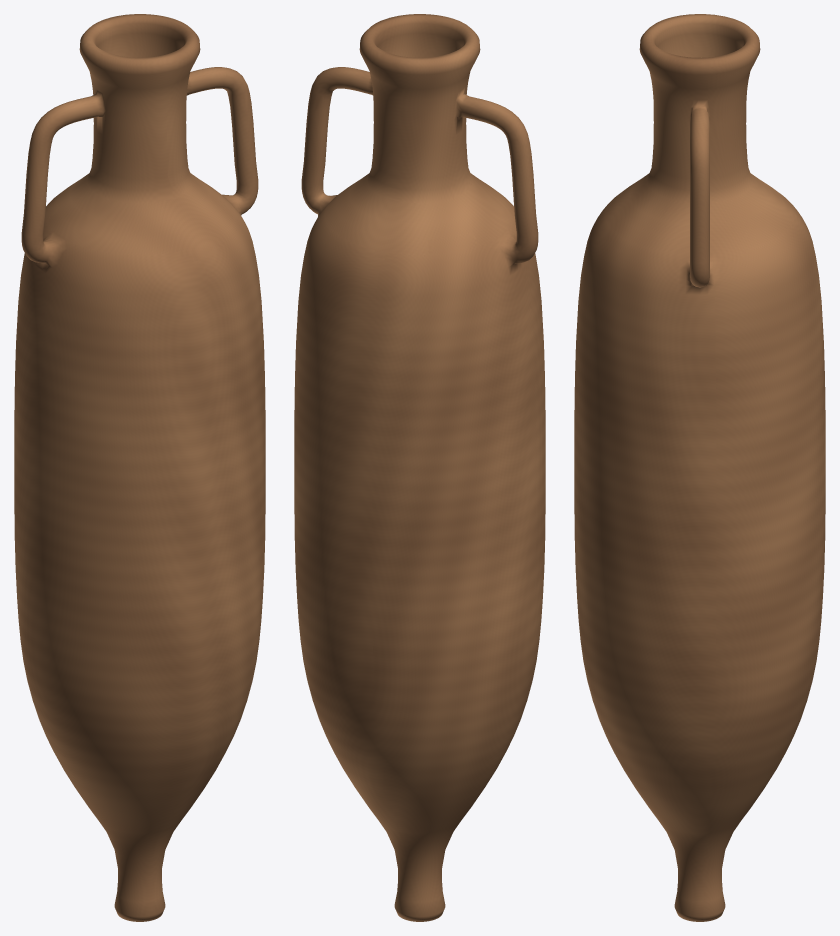
File: NEW692_Amphora_LOD1.glb
3 views of the same model, side by side, from view 1: azimuth 30°, elevation 25°; view 2: azimuth 150°, elevation 25°; view 3: azimuth 270°, elevation 25° (orthographic).
Visible parts, largest first — view 1: Complete_open_amphora_with_two_connected_handles; view 2: Complete_open_amphora_with_two_connected_handles; view 3: Complete_open_amphora_with_two_connected_handles.
Part boxes in pixels (<box>): Complete_open_amphora_with_two_connected_handles: <box>14,14,265,921</box>; Complete_open_amphora_with_two_connected_handles: <box>294,14,545,921</box>; Complete_open_amphora_with_two_connected_handles: <box>574,14,825,921</box>.
Size of the model in its own units: 0.3077 by 1.1 by 0.2861.
Materials: 1 (1 with a texture image).
